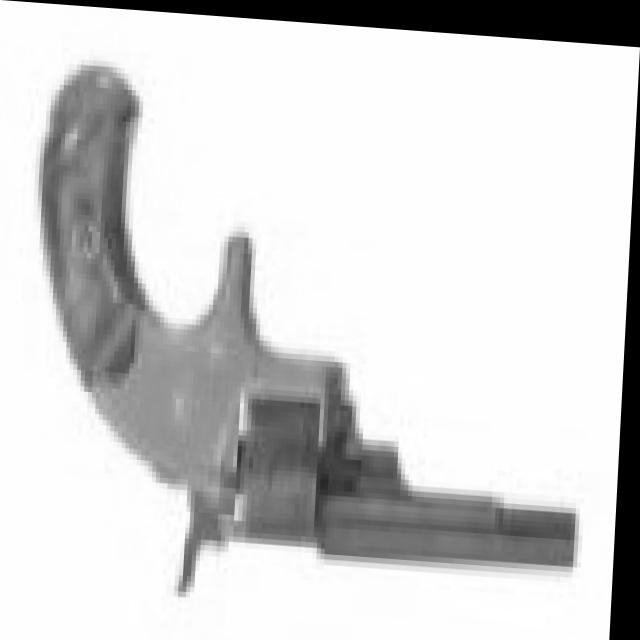handgun: (28, 68, 597, 621)
